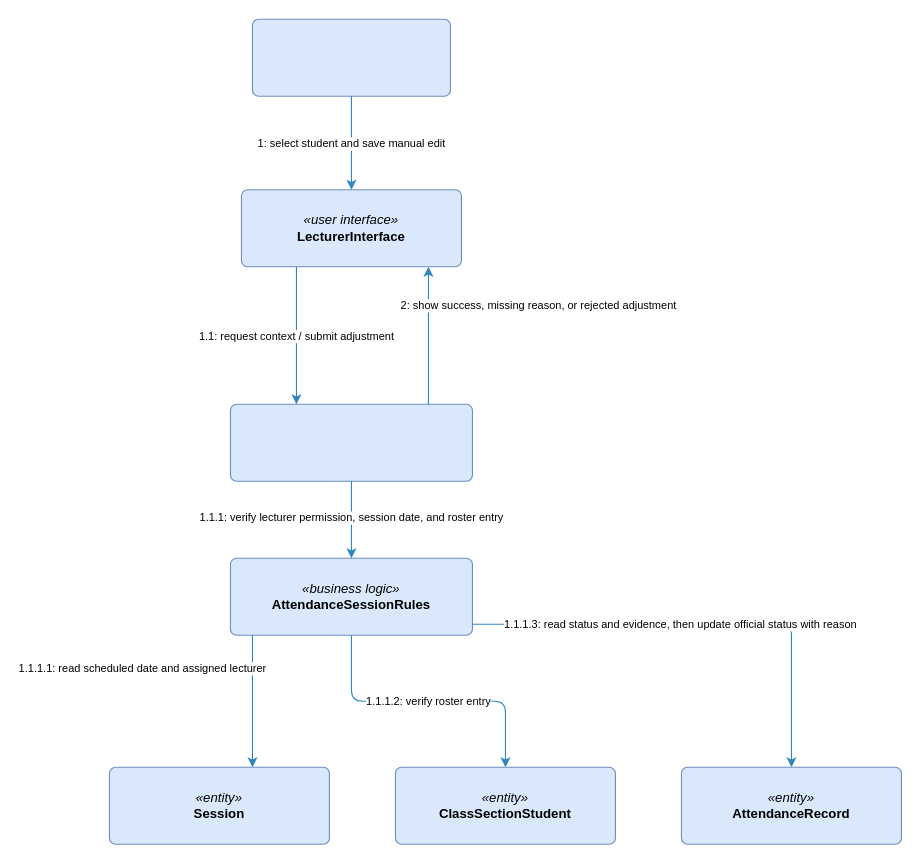
Some shapes in this 921 by 864 pixel diagram are drawn without their labels. The box of each missing label's shape, as (x1, y1, x2, y2) in pixels:
«coordinator» AttendanceCoordinator: (229, 403, 472, 481)
«external user» Lecturer: (251, 18, 450, 96)
